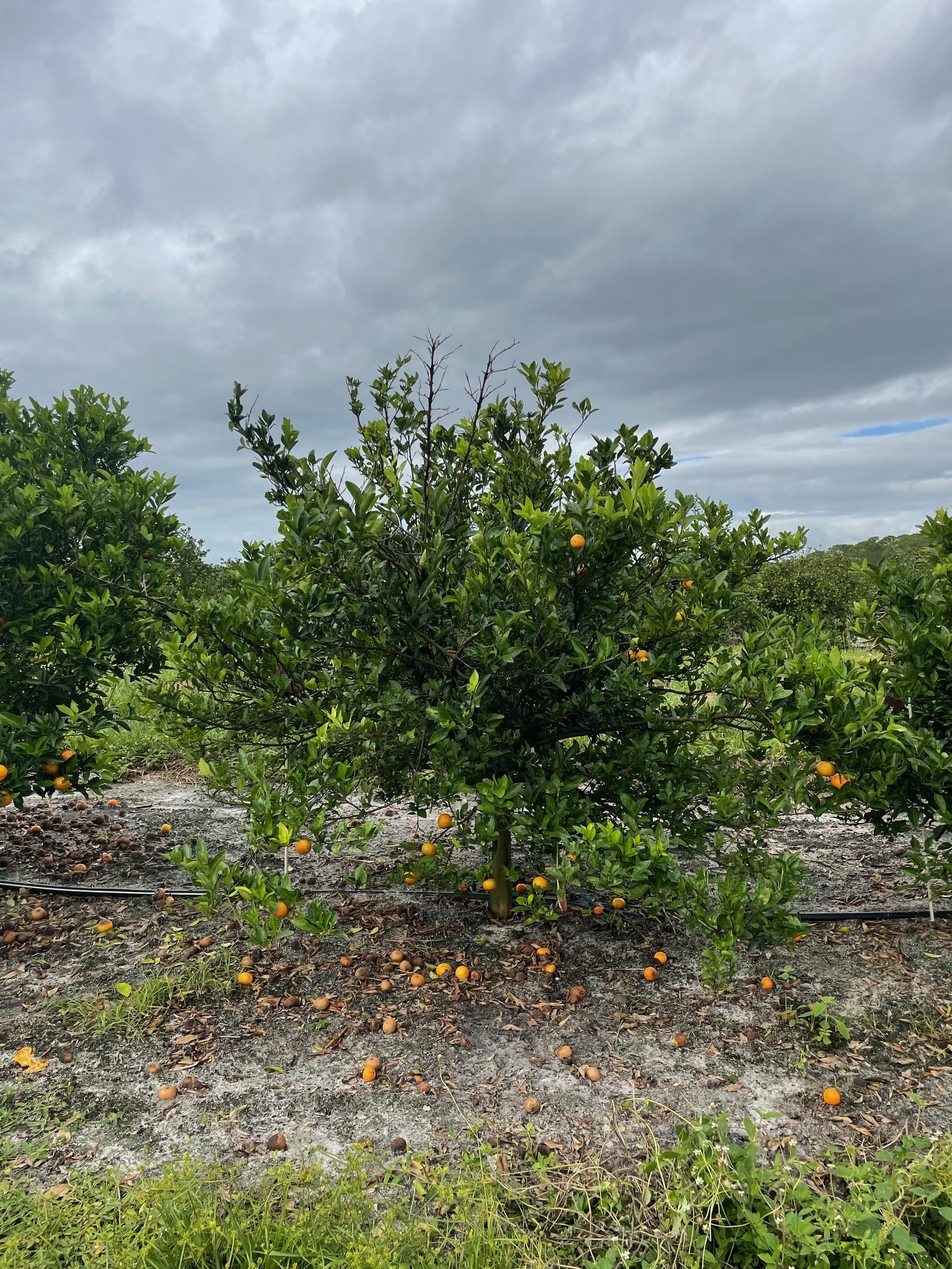fruit_on_ground: (802, 714, 828, 737), (573, 561, 596, 582), (829, 772, 852, 793), (814, 758, 837, 779), (270, 899, 291, 919), (568, 531, 588, 551), (293, 837, 314, 856), (40, 757, 60, 776), (51, 774, 72, 792), (531, 874, 550, 893), (401, 868, 420, 886), (60, 747, 80, 764), (436, 812, 454, 830), (419, 841, 438, 858), (620, 647, 638, 663), (0, 788, 13, 809), (680, 577, 697, 593), (671, 608, 687, 624), (480, 877, 497, 892), (634, 647, 650, 662), (610, 896, 626, 911), (0, 762, 10, 782)
fruit_on_tree: (266, 1131, 287, 1152), (821, 1085, 842, 1106), (156, 1082, 178, 1102), (582, 1063, 604, 1082), (567, 984, 590, 1002), (523, 1095, 542, 1114), (554, 1043, 574, 1061), (380, 1016, 399, 1034), (389, 1135, 408, 1153), (671, 1030, 690, 1048), (361, 1064, 379, 1082), (236, 968, 254, 986), (367, 1015, 384, 1033), (95, 918, 114, 934), (29, 905, 48, 921), (238, 954, 256, 970), (363, 1053, 381, 1069), (435, 961, 452, 977), (651, 948, 668, 964), (409, 972, 426, 988), (642, 965, 659, 981), (353, 966, 371, 981), (313, 994, 331, 1009), (534, 944, 553, 958), (455, 964, 471, 980), (759, 974, 775, 990), (1, 930, 18, 945), (283, 994, 301, 1008), (196, 935, 213, 949), (59, 1050, 74, 1064), (338, 953, 353, 967), (543, 961, 557, 975), (514, 881, 528, 895), (389, 947, 403, 961), (154, 885, 168, 898), (74, 800, 89, 812), (398, 960, 413, 972), (379, 978, 392, 991), (28, 823, 43, 834), (163, 894, 176, 906), (159, 822, 172, 834), (791, 932, 805, 943), (73, 862, 87, 873), (42, 854, 55, 865), (101, 852, 114, 863), (364, 952, 376, 963), (592, 905, 604, 916), (110, 821, 123, 831), (128, 868, 140, 878), (348, 817, 360, 827), (116, 836, 128, 846), (107, 797, 119, 807)
